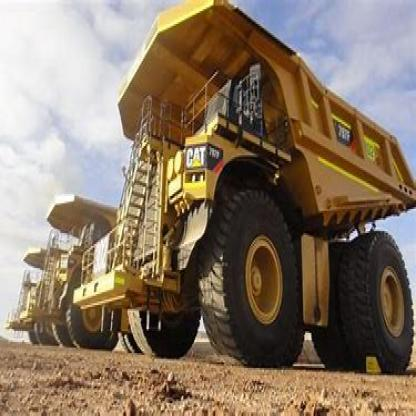dump_truck: (109, 4, 415, 370), (49, 181, 119, 355)
